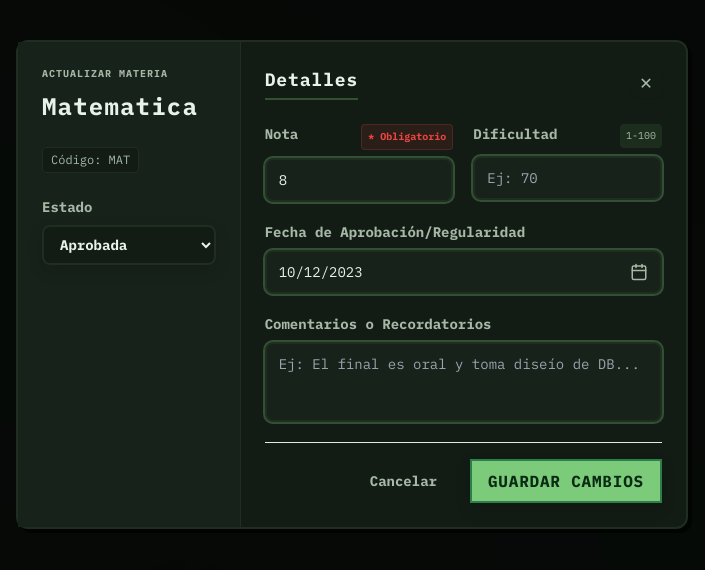
Test: SubjectUpdatePanel › debería autocompletar la nota a 2 al seleccionar RECURSADA
Step 1. Select "Recursada" in the dropdown → (129, 244), box [42,224,216,264]
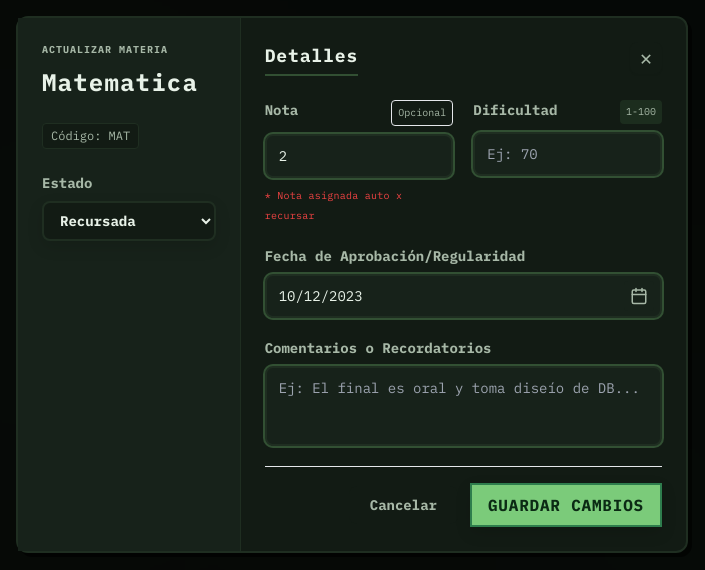
Expected: the field labelled "Nota Opcional * Nota asignada auto x recursar" holds "2", [265,134,453,178]
